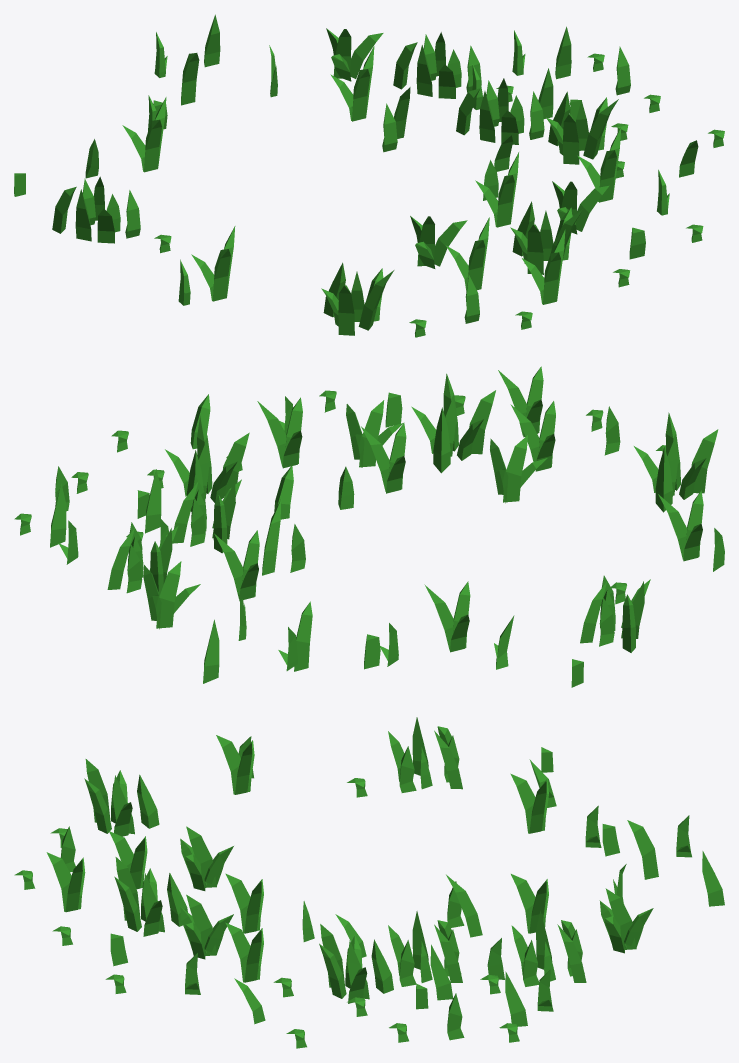
The model's file is grass.gltf.
3 views of the same model, one above another, from view 1: azimuth 30°, elevation 25°; view 2: azimuth 150°, elevation 25°; view 3: azimuth 270°, elevation 25° (orthographic). The views are drawn at different scales.
Parts seen in each view (by area): view 1: GrassBunch1, GrassBunch1.006, GrassBunch1.007, GrassBunch4, GrassBunch4.005, GrassBunch4.006, GrassBunch5, GrassBunch5.003, GrassBunch2.002, GrassBunch2.001, GrassBunch2.006, GrassBunch2.003 (+11 smaller); view 2: GrassBunch4.006, GrassBunch4.005, GrassBunch1, GrassBunch4, GrassBunch1.006, GrassBunch1.007, GrassBunch5, GrassBunch5.003, GrassBunch5.004, GrassBunch2, GrassBunch2.001, GrassBunch2.003 (+14 smaller); view 3: GrassBunch4.005, GrassBunch4, GrassBunch4.006, GrassBunch1, GrassBunch1.006, GrassBunch1.007, GrassBunch5, GrassBunch5.003, GrassBunch5.004, GrassBunch2.004, GrassBunch2.003, GrassBunch2 (+10 smaller).
Part boxes in pixels (x1,y1,x2,y2): GrassBunch1: (52,176,140,243); GrassBunch1.006: (456,78,544,144); GrassBunch1.007: (393,32,481,98); GrassBunch4: (546,91,618,164); GrassBunch4.005: (321,262,394,335); GrassBunch4.006: (510,201,582,274); GrassBunch5: (326,28,383,81); GrassBunch5.003: (410,216,467,268); GrassBunch2.002: (330,46,374,121); GrassBunch2.001: (191,226,235,301); GrassBunch2.006: (522,229,565,304); GrassBunch2.003: (475,152,518,227); GrassBunch4.006: (411,373,495,473); GrassBunch4.005: (634,412,718,512); GrassBunch1: (580,575,650,652); GrassBunch4: (165,415,249,511); GrassBunch1.006: (172,475,241,553); GrassBunch1.007: (107,522,178,594); GrassBunch5: (143,561,200,629); GrassBunch5.003: (490,435,547,503); GrassBunch5.004: (346,400,403,467); GrassBunch2: (424,581,470,652); GrassBunch2.001: (658,490,703,561); GrassBunch2.003: (361,422,406,493); GrassBunch4.005: (84,759,159,836); GrassBunch4: (319,924,393,1003); GrassBunch4.006: (114,857,187,936); GrassBunch1: (388,717,462,792); GrassBunch1.006: (388,911,462,986); GrassBunch1.007: (511,910,586,986); GrassBunch5: (599,888,653,953); GrassBunch5.003: (180,826,233,890); GrassBunch5.004: (180,894,233,959); GrassBunch2.004: (225,922,263,982); GrassBunch2.003: (225,873,263,933); GrassBunch2: (510,773,548,833).
Size of the model in its own units: 6.32 by 0.6535 by 6.68.
